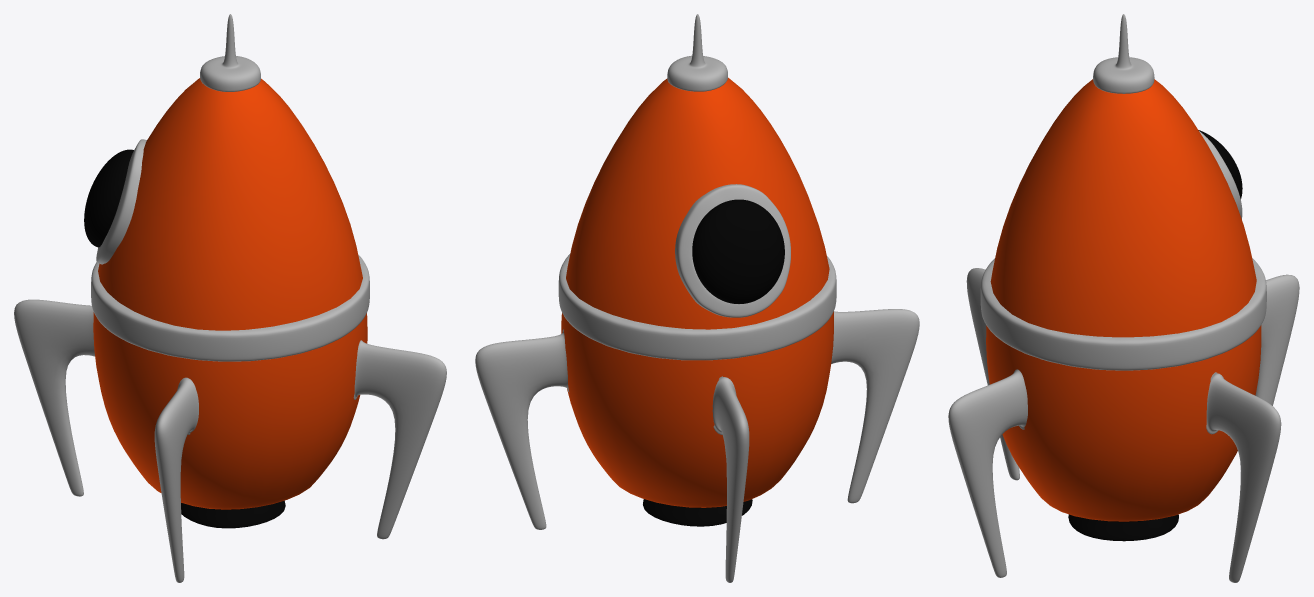
Rendered from raketa _1.glb.
The picture shows the model from 3 angles, left to right: view 1: azimuth 30°, elevation 25°; view 2: azimuth 150°, elevation 25°; view 3: azimuth 270°, elevation 25°; orthographic projection. The views are drawn at different scales.
Parts seen in each view (by area): view 1: Empty; view 2: Empty; view 3: Empty.
Part boxes in pixels (bbox=[...]): Empty: bbox=[14, 14, 446, 582]; Empty: bbox=[475, 14, 919, 582]; Empty: bbox=[948, 14, 1299, 582].
Size of the model in its own units: 3.7 by 6.02 by 3.7.
